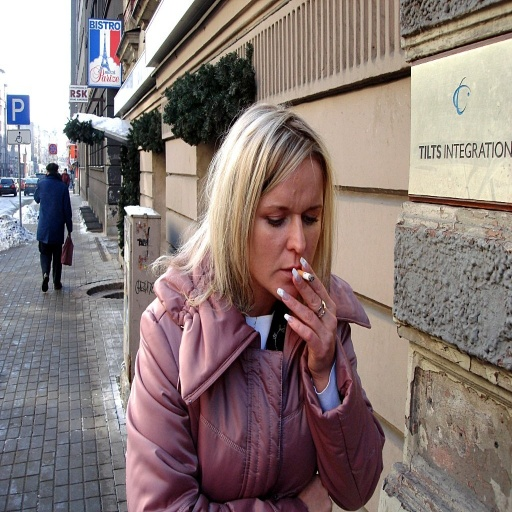hand: (276, 256, 339, 377), (297, 473, 333, 511)
